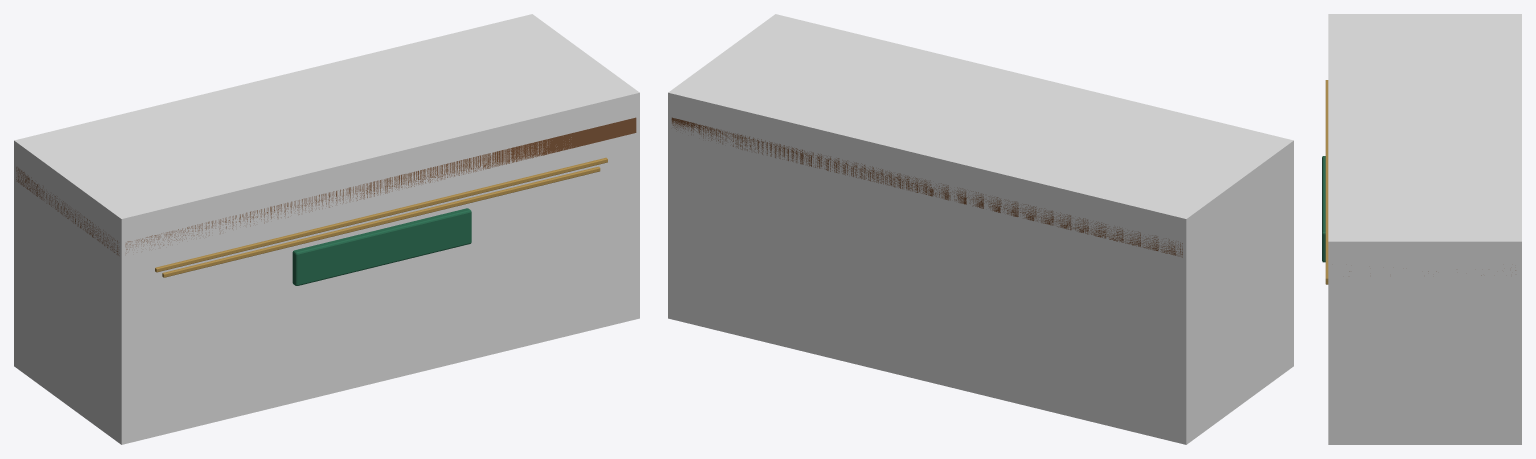
File: checkout-counter_luxury.glb
3 views of the same model, side by side, from view 1: azimuth 30°, elevation 25°; view 2: azimuth 150°, elevation 25°; view 3: azimuth 270°, elevation 25° (orthographic). The views are drawn at different scales.
Parts seen in each view (by area): view 1: COL_checkout-counter, MESH_ServiceScreen, MESH_Worktop, MESH_TierTrim_01, MESH_TierTrim_02; view 2: COL_checkout-counter, MESH_Worktop; view 3: COL_checkout-counter, MESH_TierTrim_01, MESH_ServiceScreen.
Part boxes in pixels (x1,y1,x2,y2): COL_checkout-counter: (14, 14, 639, 444); MESH_ServiceScreen: (292, 208, 471, 285); MESH_Worktop: (16, 117, 636, 255); MESH_TierTrim_01: (155, 157, 607, 272); MESH_TierTrim_02: (162, 166, 600, 277); COL_checkout-counter: (668, 14, 1293, 444); MESH_Worktop: (671, 117, 1182, 257); COL_checkout-counter: (1328, 14, 1521, 444); MESH_TierTrim_01: (1325, 80, 1328, 281); MESH_ServiceScreen: (1322, 156, 1325, 262).
Size of the model in its own units: 2.45 by 1.02 by 0.9086.
